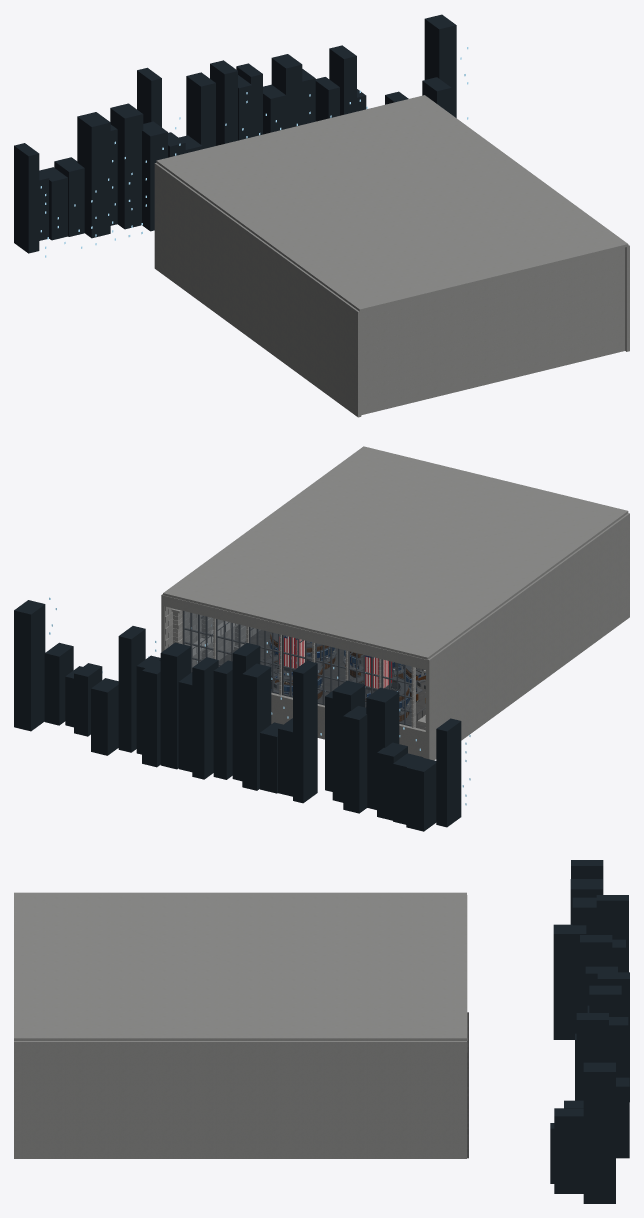
Rendered from exchange.glb.
3 views of the same model, one above another, from view 1: azimuth 30°, elevation 25°; view 2: azimuth 150°, elevation 25°; view 3: azimuth 270°, elevation 25° (orthographic). The views are drawn at different scales.
Visible parts, largest first — view 1: EX4_room_Stone0, EX4_live_Exterior; view 2: EX4_room_Stone0, EX4_live_Exterior, EX4_live_Glass, EX4_room_Stone1, EX4_room_Metal0, EX4_stations_Metal0, EX4_room_Stone2, EX4_stations_Flag, EX4_room_Carpet0, EX4_room_Carpet1, EX4_stations_Metal2, EX4_stations_Metal1; view 3: EX4_room_Stone0, EX4_live_Exterior.
Part boxes in pixels (x1,y1,x2,y2): EX4_room_Stone0: (154, 95, 629, 417); EX4_live_Exterior: (14, 14, 456, 253); EX4_room_Stone0: (161, 446, 629, 760); EX4_live_Exterior: (14, 600, 461, 831); EX4_live_Glass: (183, 611, 411, 725); EX4_room_Stone1: (163, 595, 427, 731); EX4_room_Metal0: (182, 611, 422, 726); EX4_stations_Metal0: (263, 633, 425, 721); EX4_room_Stone2: (168, 608, 425, 721); EX4_stations_Flag: (279, 634, 391, 688); EX4_room_Carpet0: (218, 630, 425, 739); EX4_room_Carpet1: (218, 630, 425, 739); EX4_stations_Metal2: (269, 639, 425, 714); EX4_stations_Metal1: (262, 632, 425, 719); EX4_room_Stone0: (14, 892, 466, 1158); EX4_live_Exterior: (550, 860, 629, 1203).
Size of the model in its own units: 51.68 by 14.98 by 57.12.
32 materials, 21 textured.
